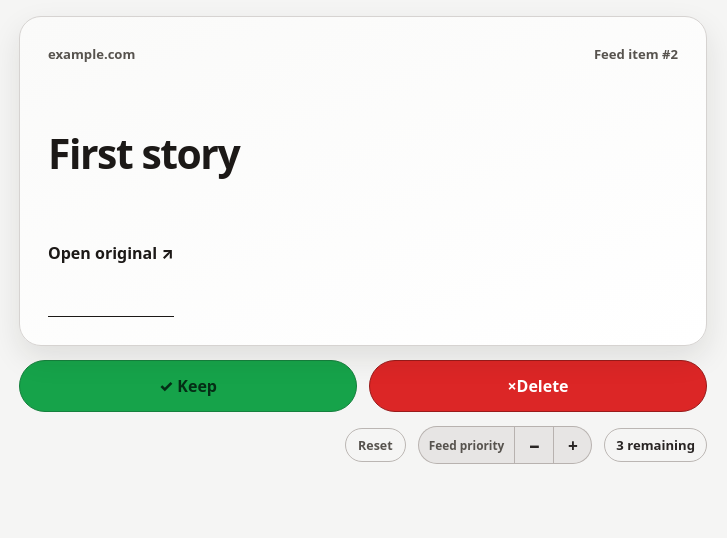
Test case: ReaderPage › revisits kept items after all other items have been reviewed
Expected: the heading "First story" is shown, 48,125 -> 239,181
Step 1. Click the button "✓ Keep" → [188, 386], box 19,360 -> 357,412
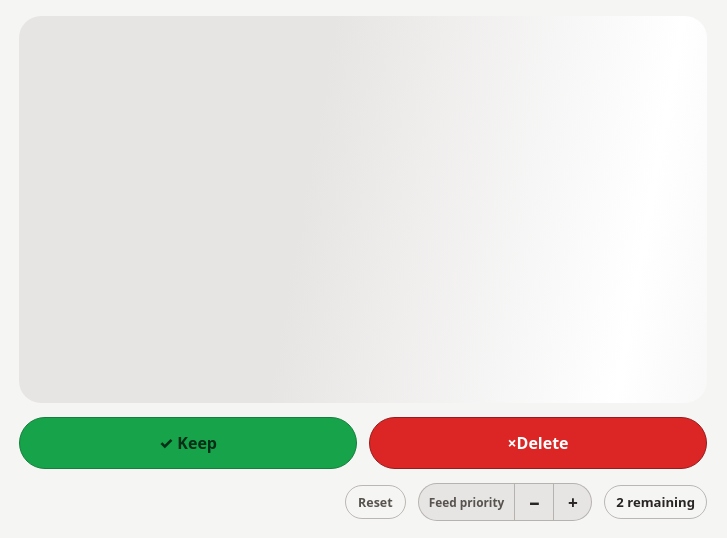
Step 2. Click the button "✓ Keep" → [188, 443], box 19,417 -> 357,469
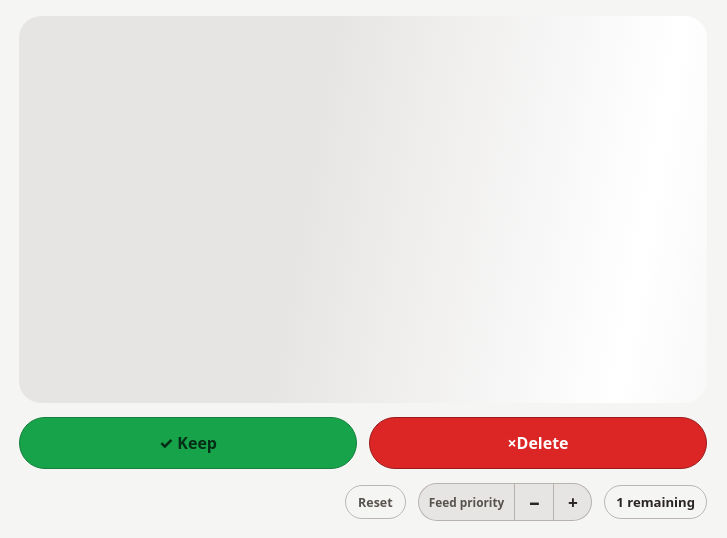
Step 3. Click the button "✓ Keep" → [188, 443], box 19,417 -> 357,469
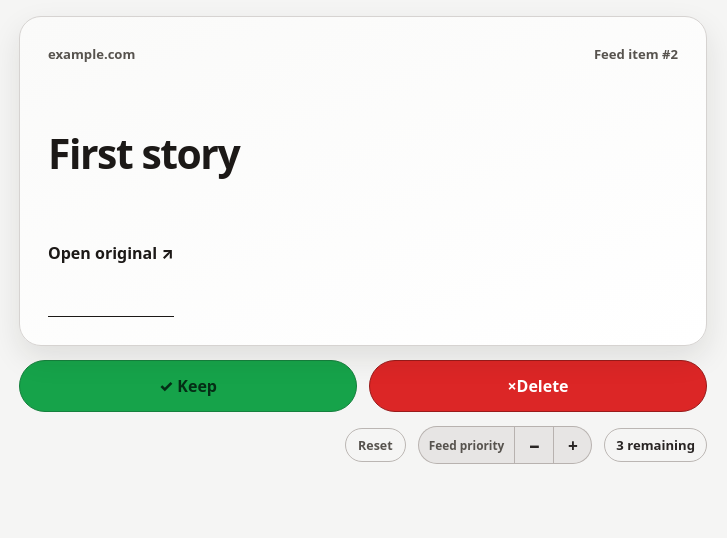
Expected: the heading "First story" is shown, 48,125 -> 239,181
Expected: the text "3 remaining" is shown, 604,428 -> 707,462
Step 4. Click the button "✓ Keep" → [188, 386], box 19,360 -> 357,412
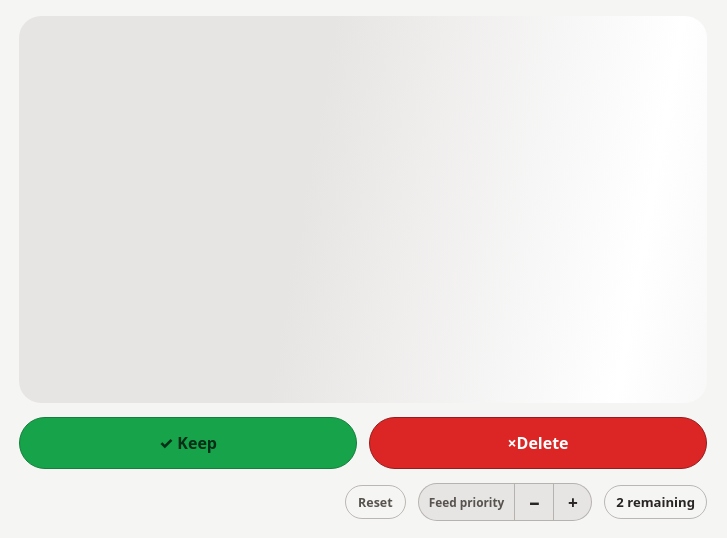
Step 5. Click the button "✓ Keep" → [188, 443], box 19,417 -> 357,469
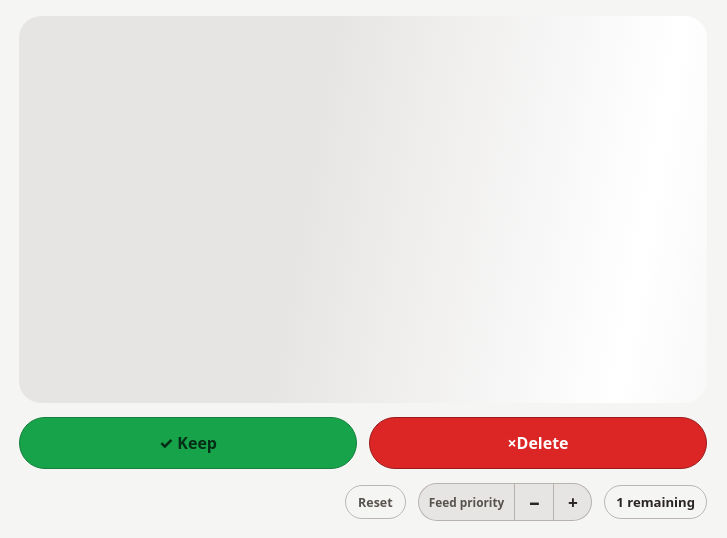
Step 6. Click the button "✓ Keep" → [188, 443], box 19,417 -> 357,469
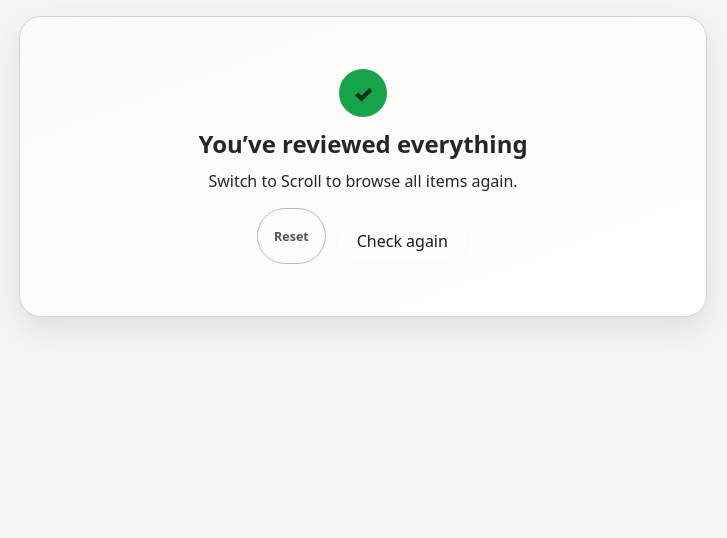
Expected: the heading "You’ve reviewed everything" is shown, 198,127 -> 528,160
